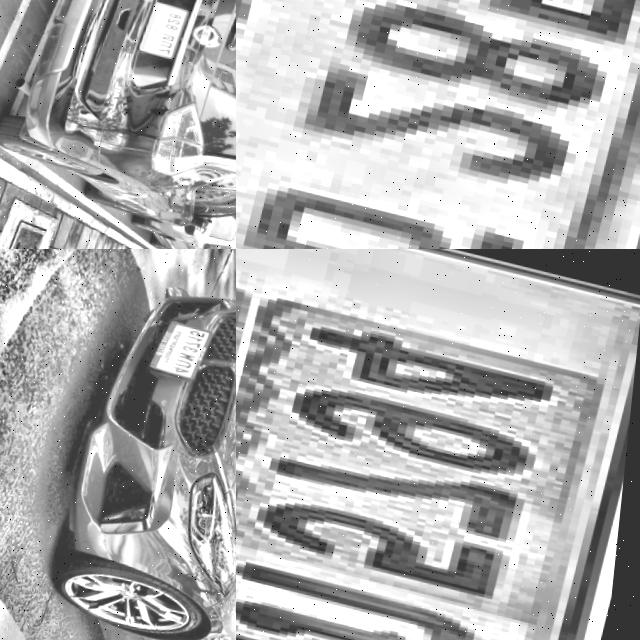license-plate: (236, 249, 640, 640), (236, 0, 640, 249), (148, 310, 216, 378), (139, 0, 197, 52)
